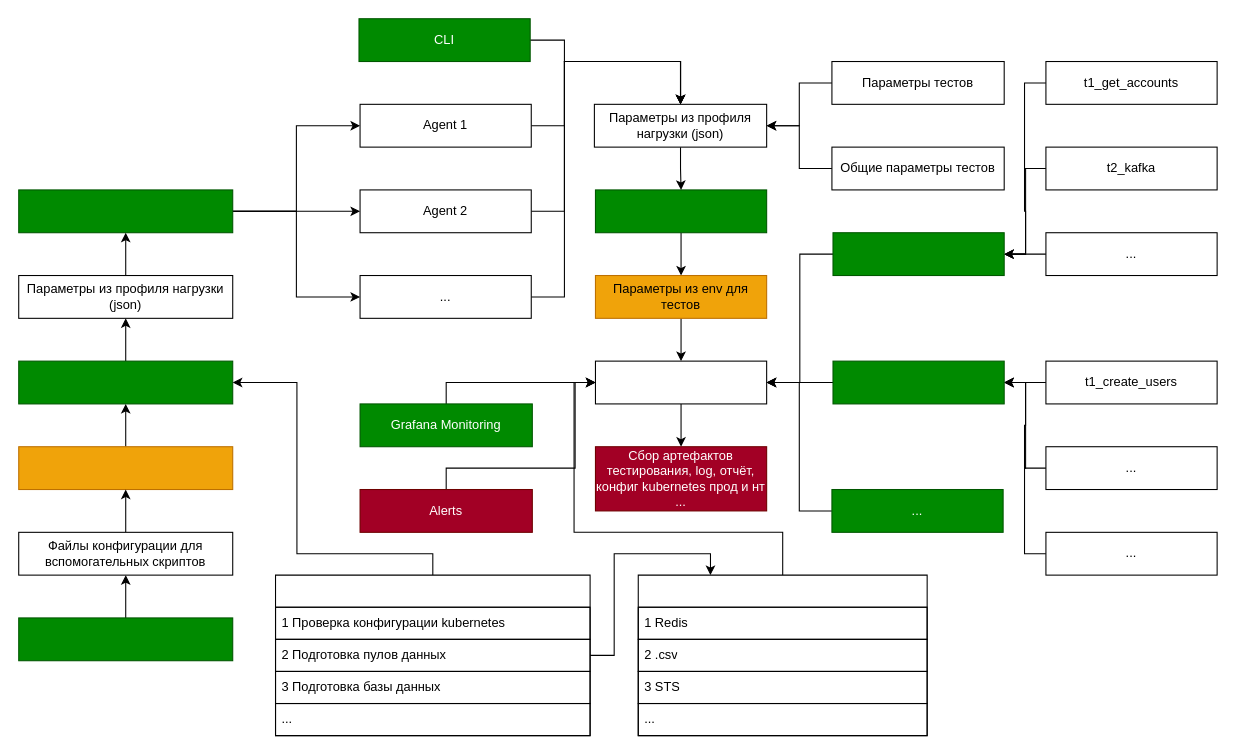
Image size: 1236x754. Some labels were removed from this diagram. Each missing label, with the box of its shape:
Jenkins, Gitlab (Master): (18, 189, 233, 233)
Profile Editor (Программа для сбора профиля нагрузки): (18, 617, 233, 661)
Python Script (Подготовка параметров для теста): (594, 189, 767, 233)
Python Script (Подготовка перед тестом): (18, 360, 233, 404)
System 1 (system_fake_bank): (832, 232, 1004, 276)
System 2 (system_reqres): (832, 360, 1004, 404)
Tests Run: (594, 360, 767, 404)
Данные для тестов: (637, 574, 927, 736)
Параметры из env для вспомогательных скриптов: (18, 446, 233, 490)
Шаги подготовки перед запуском тестов: (274, 574, 590, 736)
